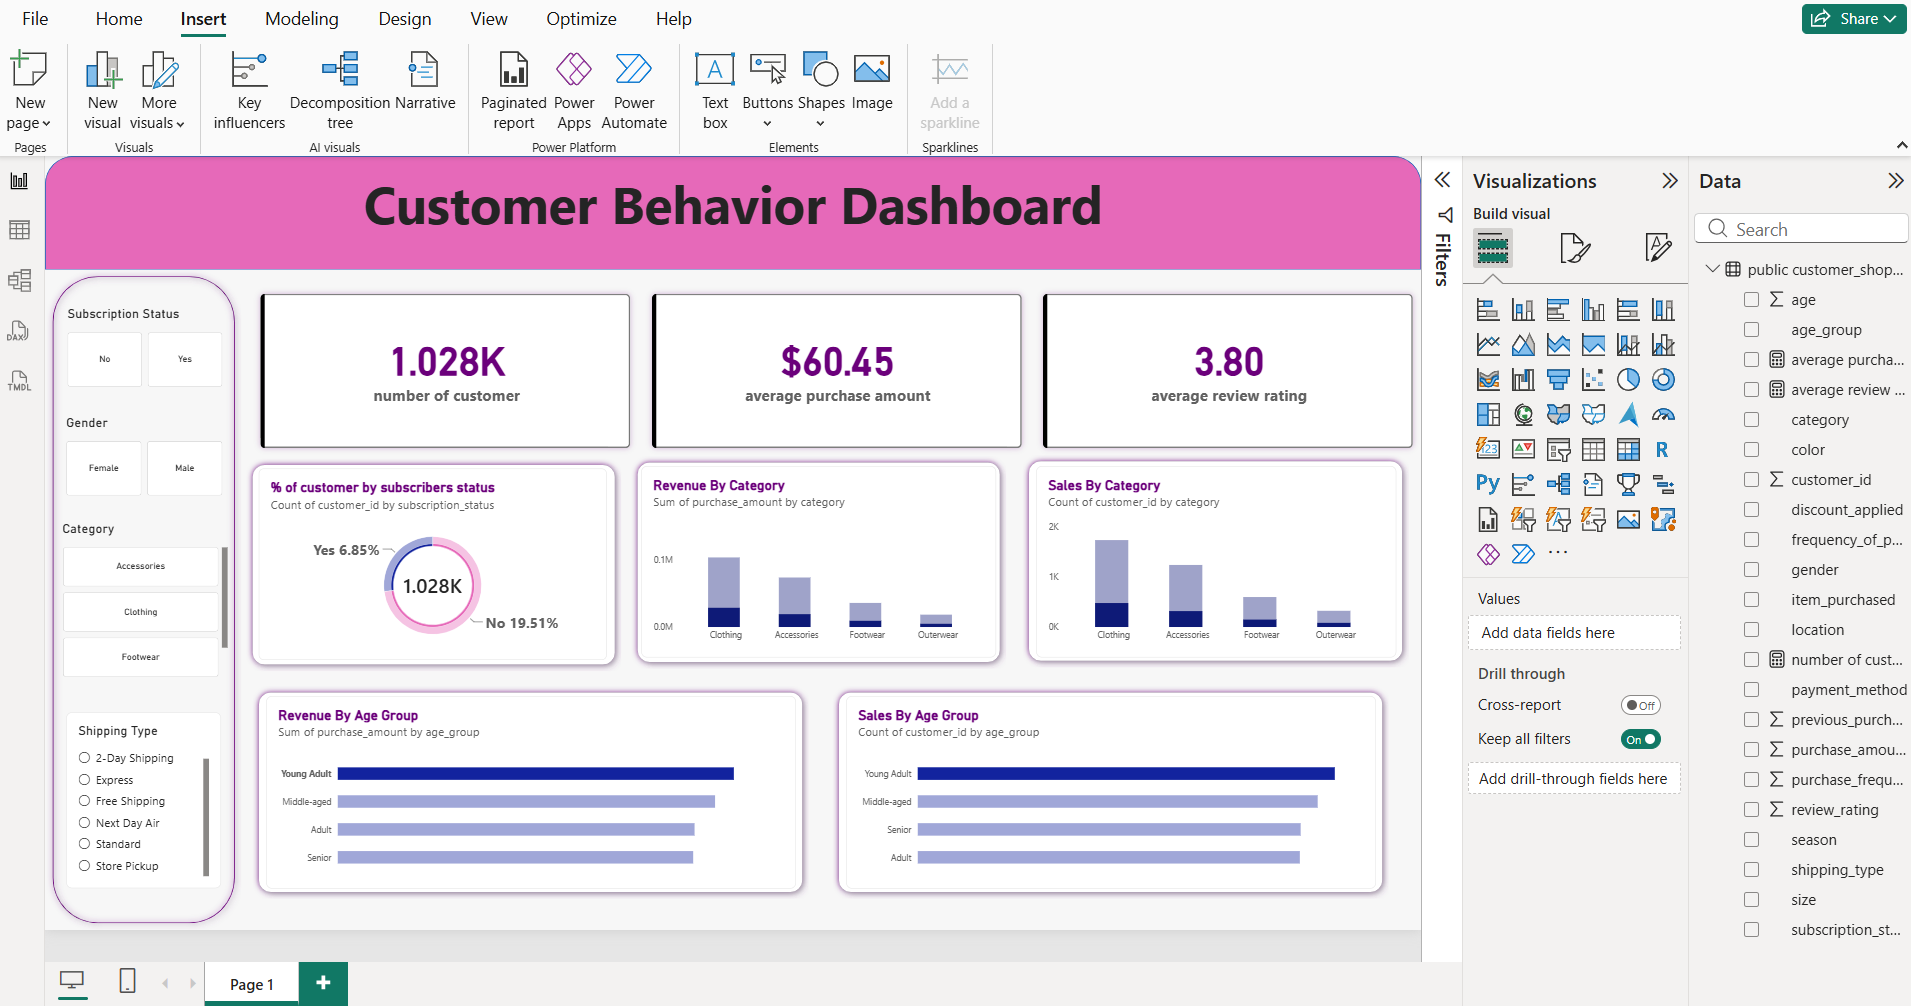

The page's visual inventory and layout, read from the dashboard file:
{"tool":"powerbi","page":{"name":"Page 1","canvas":[1920,1080],"ordinal":0},"visuals":[{"type":"cardVisual","fields":{"Data":["public customer_shopping_behavior.number of customer","public customer_shopping_behavior.average purchase amount","public customer_shopping_behavior.average review rating"]},"box":[289.5,181.4,1630.8,237.2],"z":0},{"type":"shape","box":[0,0,1920.4,158.7],"z":1000},{"type":"textbox","box":[0,17.4,1920.4,125.6],"z":2000},{"type":"shape","box":[818,418.6,523.3,296.5],"z":3000},{"type":"shape","box":[1364,416.9,539,296.5],"z":5000},{"type":"lineClusteredColumnComboChart","title":"Revenue By Category","fields":{"Category":["public customer_shopping_behavior.category"],"Y":["Sum(public customer_shopping_behavior.purchase_amount)"]},"box":[832,432.6,495.4,266.9],"z":7000},{"type":"lineClusteredColumnComboChart","title":"Sales By Category","fields":{"Category":["public customer_shopping_behavior.category"],"Y":["CountNonNull(public customer_shopping_behavior.customer_id)"]},"box":[1383.1,432.6,502.3,266.9],"z":8000},{"type":"shape","box":[1.7,158.7,272.1,920.9],"z":9000},{"type":"advancedSlicerVisual","fields":{"Values":["public customer_shopping_behavior.subscription_status"]},"box":[31.4,209.3,216.3,113.4],"z":10000},{"type":"advancedSlicerVisual","fields":{"Values":["public customer_shopping_behavior.gender"]},"box":[29.7,361,219.8,113.4],"z":11000},{"type":"advancedSlicerVisual","fields":{"Values":["public customer_shopping_behavior.category"]},"box":[24.4,509.3,230.2,218],"z":11001},{"type":"listSlicer","fields":{"Values":["public customer_shopping_behavior.shipping_type"]},"box":[29.7,776.2,216.3,245.9],"z":11002},{"type":"shape","box":[289.5,739.5,776.2,296.5],"z":11004},{"type":"clusteredBarChart","title":"Revenue By Age Group","fields":{"Category":["public customer_shopping_behavior.age_group"],"Y":["Sum(public customer_shopping_behavior.purchase_amount)"]},"box":[308.7,753.5,739.5,268.6],"z":11005},{"type":"shape","box":[1098.8,739.5,776.2,296.5],"z":11007},{"type":"clusteredBarChart","title":"Sales By Age Group","fields":{"Category":["public customer_shopping_behavior.age_group"],"Y":["CountNonNull(public customer_shopping_behavior.customer_id)"]},"box":[1118,753.5,739.5,268.6],"z":11008},{"type":"shape","box":[280.8,422.1,523.3,296.5],"z":11009},{"type":"donutChart","title":"% of customer by subscribers status","fields":{"Category":["public customer_shopping_behavior.subscription_status"],"Y":["CountNonNull(public customer_shopping_behavior.customer_id)"]},"box":[298.3,436,485.8,267.6],"z":11010}]}

Visuals, with their boxes on the page's 1920x1080 design canvas (x1, y1, x2, y2). These are canvas units, not pixel positions in the 1911x1006 screenshot, which may show the page scaled, cropped or inside an application window:
cardVisual - public customer_shopping_behavior.number of customer x public customer_shopping_behavior.average purchase amount: [290, 181, 1920, 419]
shape: [0, 0, 1920, 159]
textbox: [0, 17, 1920, 143]
shape: [818, 419, 1341, 715]
shape: [1364, 417, 1903, 713]
"Revenue By Category" lineClusteredColumnComboChart: [832, 433, 1327, 700]
"Sales By Category" lineClusteredColumnComboChart: [1383, 433, 1885, 700]
shape: [2, 159, 274, 1080]
advancedSlicerVisual - public customer_shopping_behavior.subscription_status: [31, 209, 248, 323]
advancedSlicerVisual - public customer_shopping_behavior.gender: [30, 361, 250, 474]
advancedSlicerVisual - public customer_shopping_behavior.category: [24, 509, 255, 727]
listSlicer - public customer_shopping_behavior.shipping_type: [30, 776, 246, 1022]
shape: [290, 740, 1066, 1036]
"Revenue By Age Group" clusteredBarChart: [309, 754, 1048, 1022]
shape: [1099, 740, 1875, 1036]
"Sales By Age Group" clusteredBarChart: [1118, 754, 1858, 1022]
shape: [281, 422, 804, 719]
"% of customer by subscribers status" donutChart: [298, 436, 784, 704]
